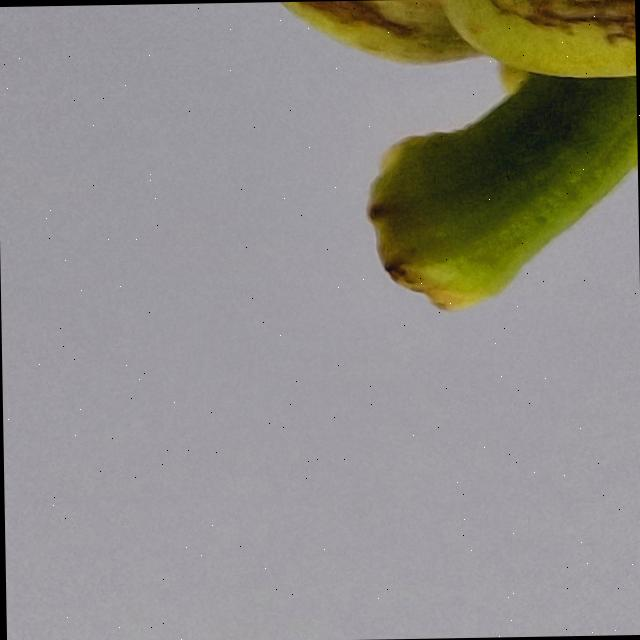mangosteen: (119, 0, 640, 368)
